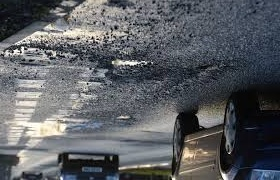pothole: (96, 56, 190, 85)
